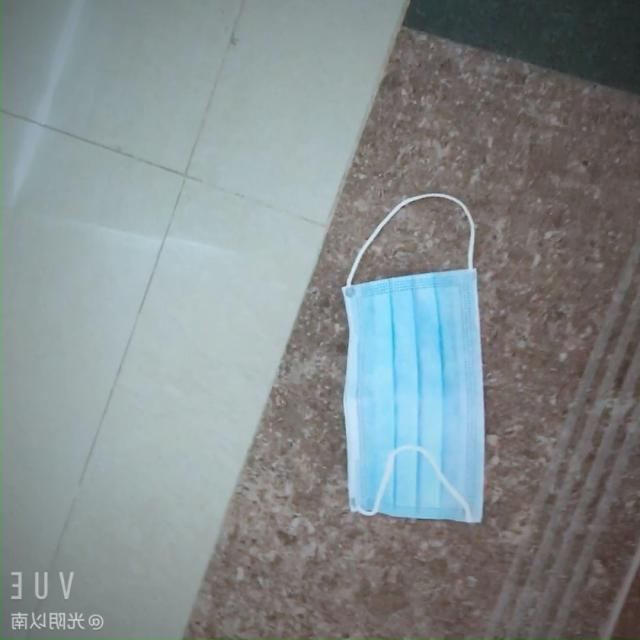face mask: (331, 252, 511, 530)
